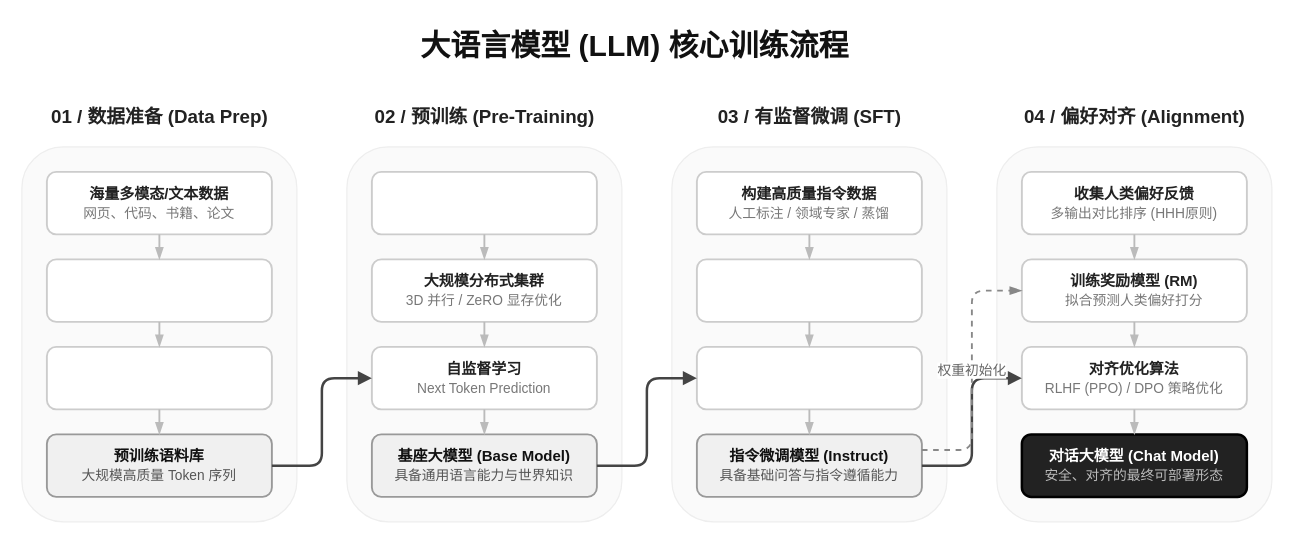
The diagram is 1294 pixels wide and 544 high, and some of its shapes have lost their labels. The shapes that lost their labels are listed below. From the top down, each one's box as (x1, y1, x2, y2) in pixels, then its label:
(370, 170, 597, 235): 模型架构设计 Transformer / MoE 结构
(45, 258, 272, 322): 数据清洗与过滤 去重、脱敏、质量评分
(695, 258, 922, 322): 格式化与模板组装 System Prompt & 多轮对话
(45, 345, 272, 410): 分词处理 (Tokenization) BPE / WordPiece 算法
(695, 345, 922, 410): 有监督微调训练 全量微调 / LoRA 参数高效微调
